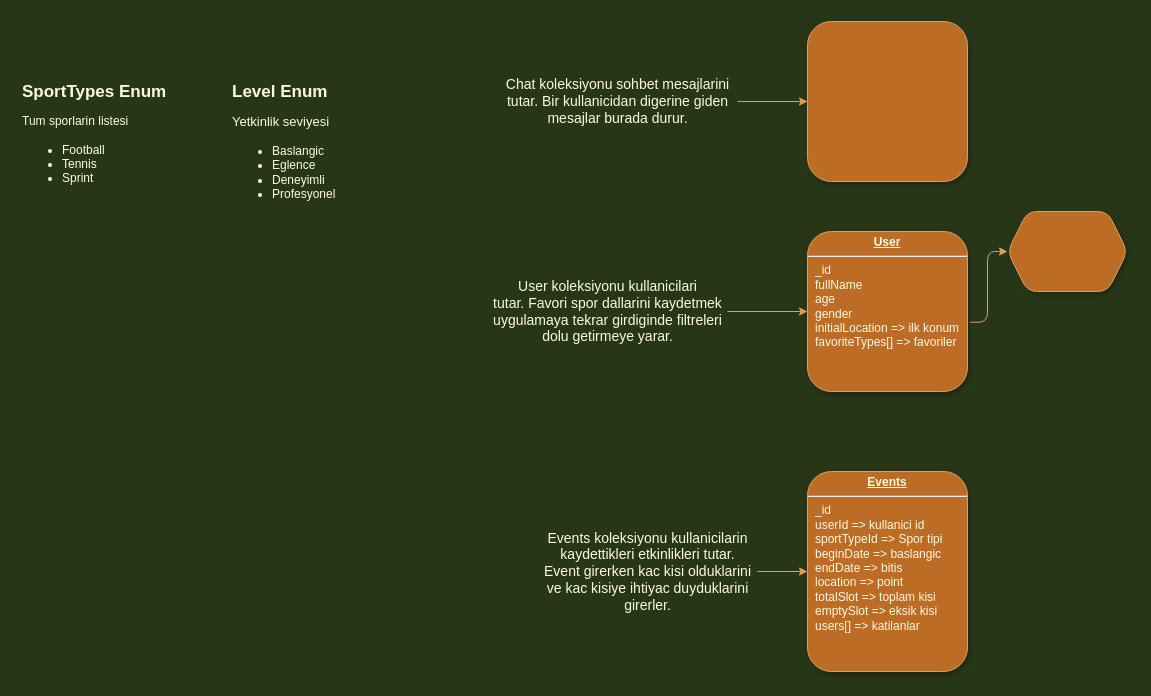
The diagram is 1151 pixels wide and 696 high, and some of its shapes have lost their labels. Each missing label, with the centre of its shape:
"Chat _id fromId => kimden toId => kime message isReaded => okundu mu?" belongs at (888,102).
"favoriteTypes - sportTypeId - level => yetkinlik - beginDate" belongs at (1068,252).
